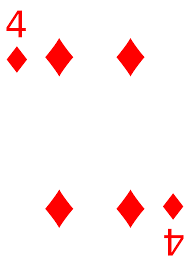four of dimaonds: (3, 7, 187, 266)
